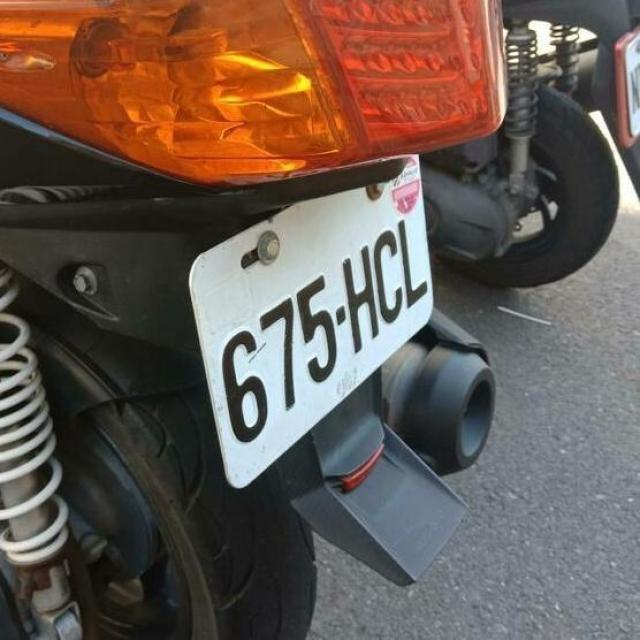W: (169, 145, 466, 482)
